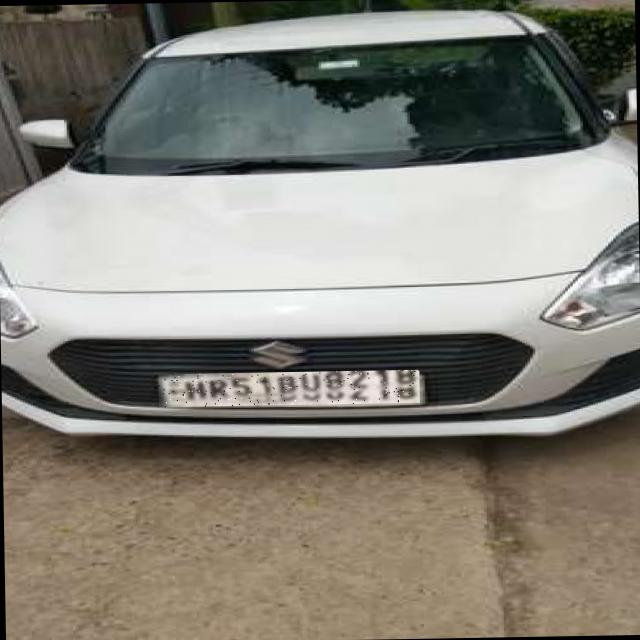Plate: (159, 370, 421, 408)
